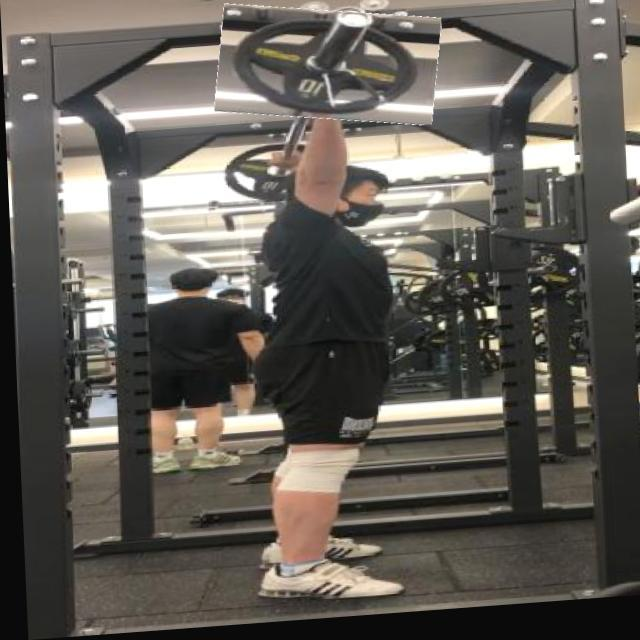barbell: (214, 3, 442, 138)
